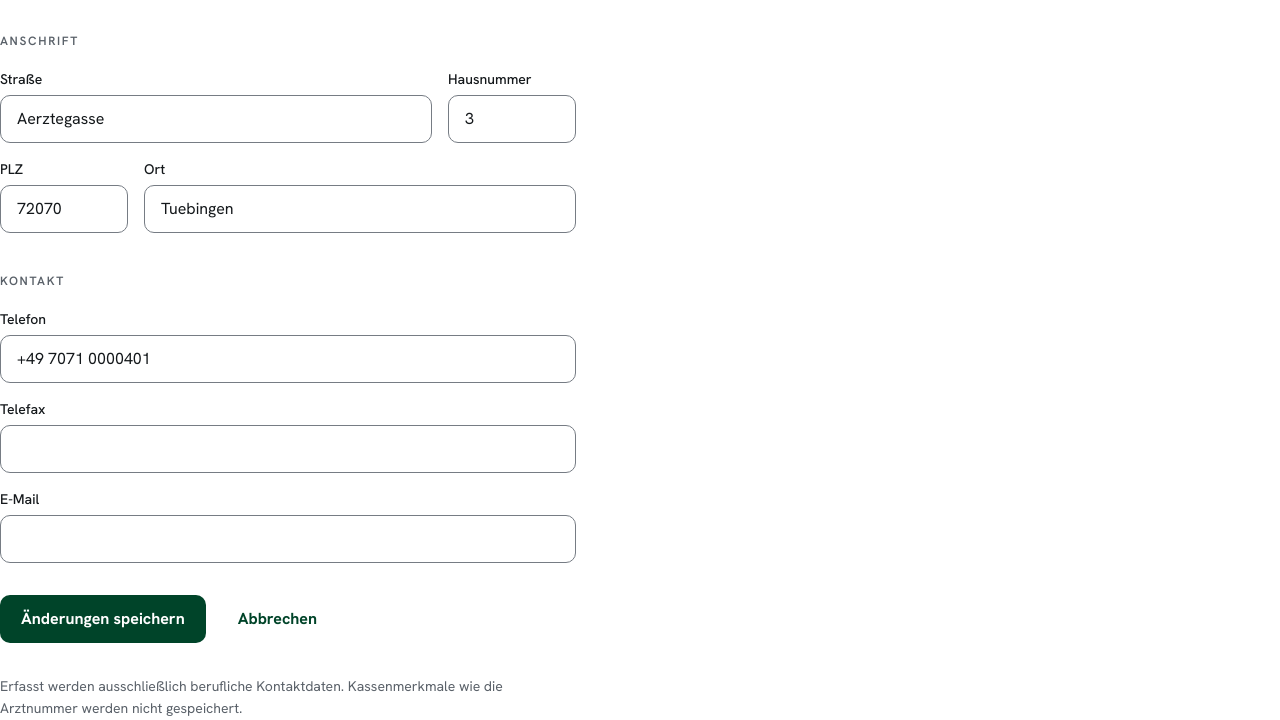
it: EditPrescriberPage › fragt nach einer Aenderung am Bestand nach
The width and height of the screenshot is (1280, 720).
(page scrolled)
Step 1. Type "1" into the field labelled "Telefax" → (288, 449), box [0,425,576,473]
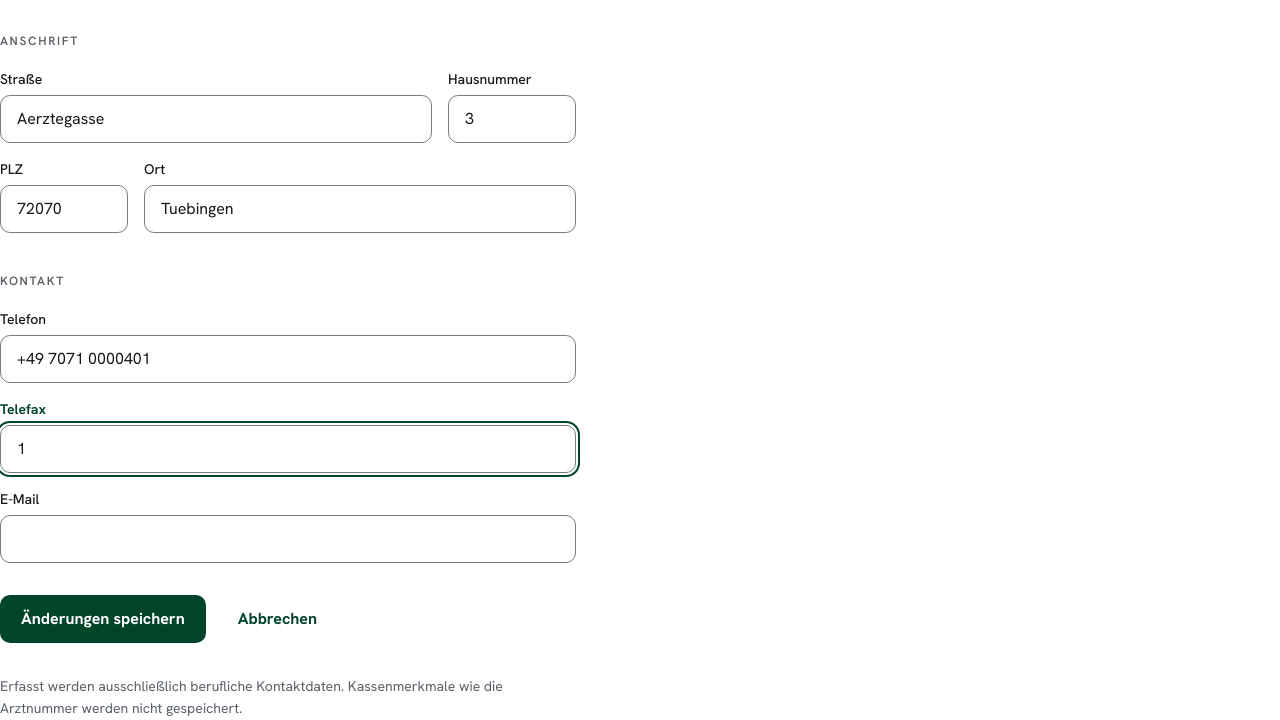
Step 2. Click the link "Abbrechen" → click(277, 618), box [238,608,317,629]
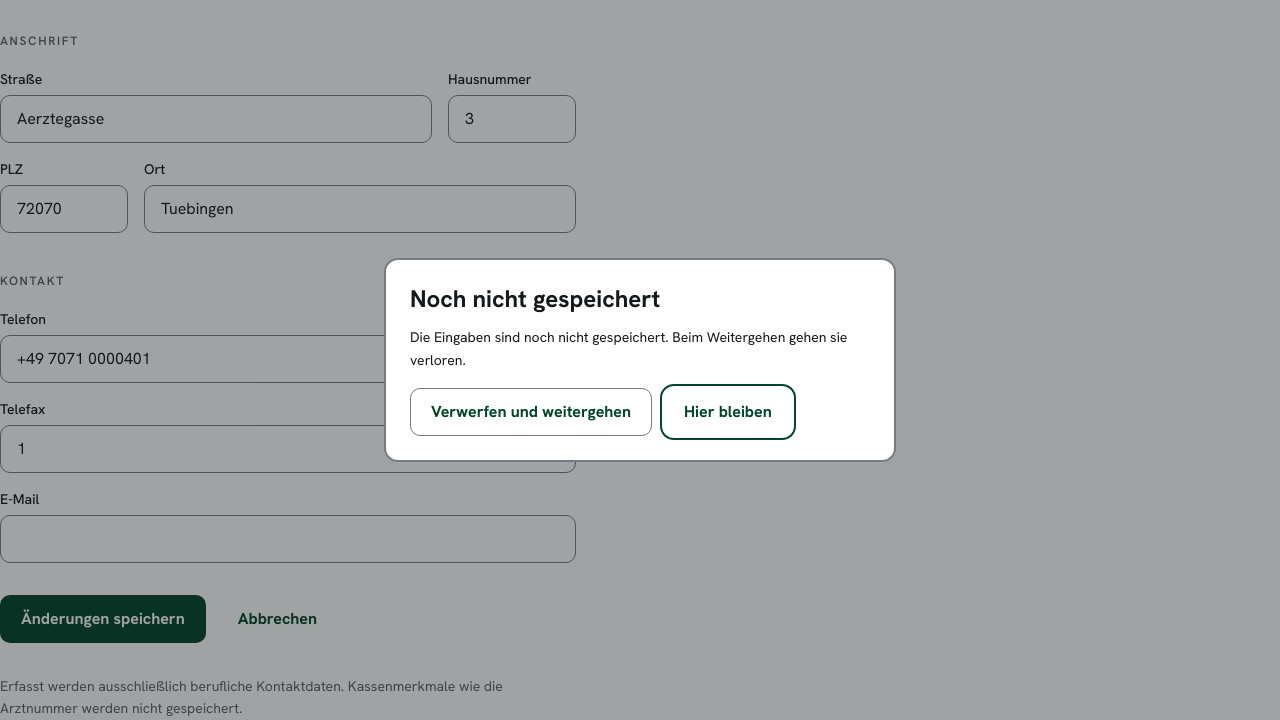
Result: the element named "Ungespeicherte Angaben zur Verordner:in" is shown at [410,326,870,436]
